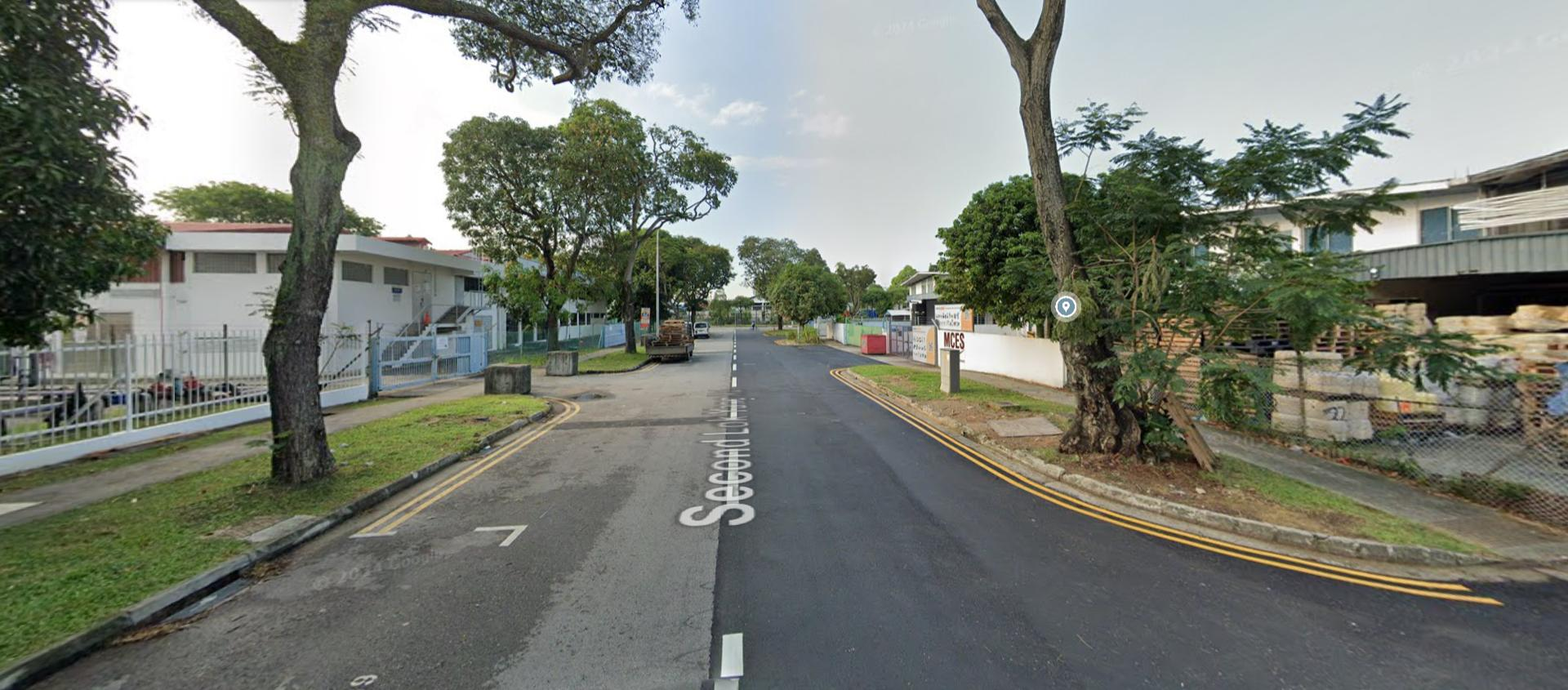defect: (161, 573, 266, 624)
